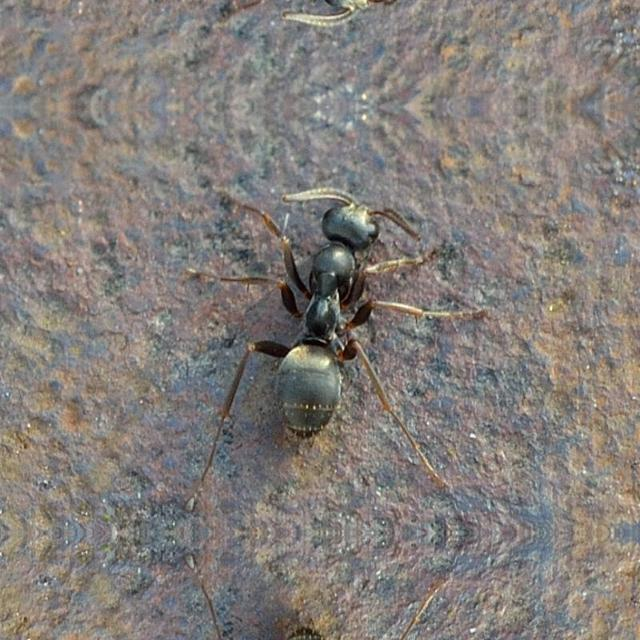Formica: (216, 164, 420, 446)
